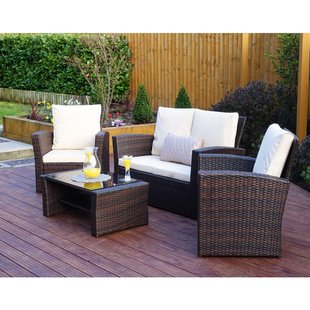chairs: (113, 106, 247, 214), (199, 123, 301, 261), (32, 105, 112, 196)
